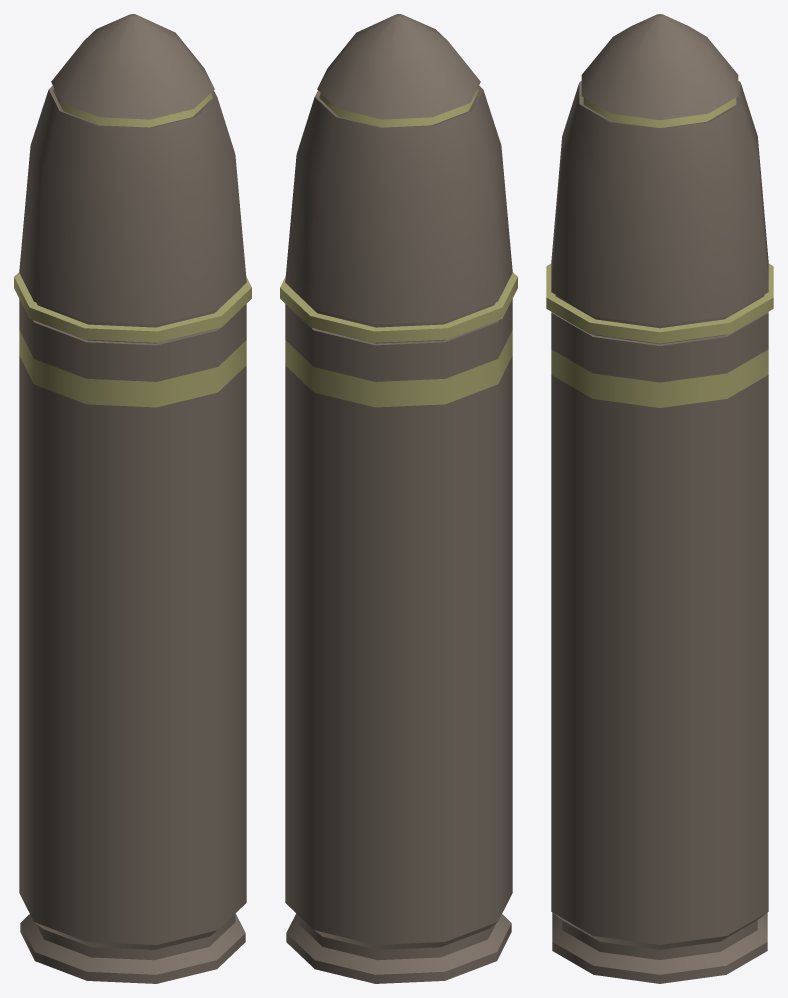
The model's file is Shell_1_T.fbx.
3 renders of one model, left to right at view 1: azimuth 30°, elevation 25°; view 2: azimuth 150°, elevation 25°; view 3: azimuth 270°, elevation 25°, orthographic.
Parts seen in each view (by area): view 1: Shell_1; view 2: Shell_1; view 3: Shell_1.
Part boxes in pixels (x1,y1,x2,y2): Shell_1: (14, 14, 251, 983); Shell_1: (280, 14, 517, 983); Shell_1: (546, 14, 773, 983).
Bounding box in the file's own units: 10.23 × 43.46 × 9.73.
